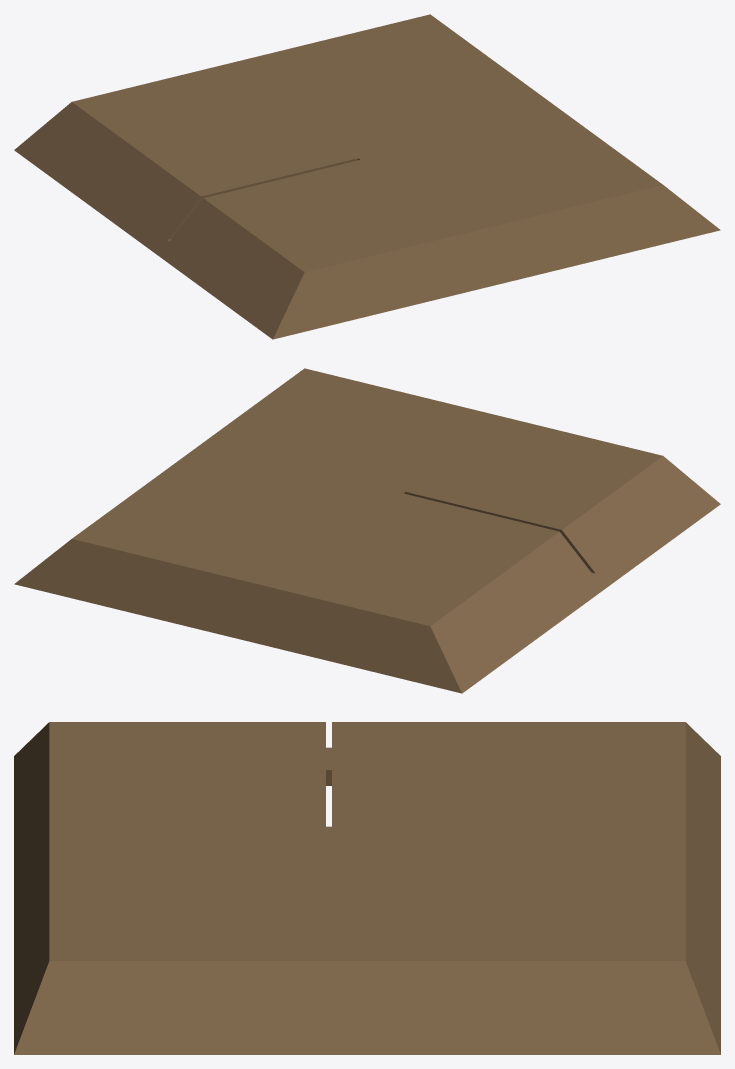
Rendered from crate_face06_broken.fbx.
The picture shows the model from 3 angles, top to bottom: view 1: azimuth 30°, elevation 25°; view 2: azimuth 150°, elevation 25°; view 3: azimuth 270°, elevation 25°; orthographic projection. The views are drawn at different scales.
Parts seen in each view (by area): view 1: crateFace077, crateFace068, crateFace080, crateFace079, crateFace076, crateFace075, crateFace069, crateFace074, crateFace072, crateFace070, crateFace073, crateFace067; view 2: crateFace068, crateFace076, crateFace080, crateFace077, crateFace079, crateFace070, crateFace069, crateFace072, crateFace074, crateFace075, crateFace071, crateFace078 (+1 smaller); view 3: crateFace069, crateFace079, crateFace077, crateFace080, crateFace076, crateFace068, crateFace070, crateFace071, crateFace075, crateFace073, crateFace072, crateFace078 (+1 smaller).
Part boxes in pixels (bbox=[...]): crateFace077: bbox=[358, 137, 670, 289]; crateFace068: bbox=[40, 110, 370, 253]; crateFace080: bbox=[170, 160, 450, 311]; crateFace079: bbox=[284, 24, 534, 129]; crateFace076: bbox=[122, 53, 375, 137]; crateFace075: bbox=[284, 225, 472, 319]; crateFace069: bbox=[371, 91, 639, 167]; crateFace074: bbox=[156, 239, 474, 328]; crateFace072: bbox=[14, 89, 124, 168]; crateFace070: bbox=[270, 14, 442, 62]; crateFace073: bbox=[662, 190, 720, 244]; crateFace067: bbox=[247, 305, 317, 339]; crateFace068: bbox=[354, 493, 603, 674]; crateFace076: bbox=[215, 499, 419, 678]; crateFace080: bbox=[405, 425, 692, 573]; crateFace077: bbox=[282, 368, 504, 498]; crateFace079: bbox=[85, 462, 335, 567]; crateFace070: bbox=[43, 529, 243, 623]; crateFace069: bbox=[177, 385, 353, 500]; crateFace072: bbox=[380, 603, 487, 693]; crateFace074: bbox=[591, 504, 694, 589]; crateFace075: bbox=[495, 417, 691, 483]; crateFace071: bbox=[57, 585, 217, 633]; crateFace078: bbox=[14, 562, 58, 594]; crateFace069: bbox=[78, 847, 402, 1054]; crateFace079: bbox=[399, 855, 688, 1031]; crateFace077: bbox=[14, 826, 380, 1015]; crateFace080: bbox=[78, 722, 325, 826]; crateFace076: bbox=[381, 743, 720, 919]; crateFace068: bbox=[332, 722, 626, 846]; crateFace070: bbox=[650, 853, 714, 1016]; crateFace071: bbox=[403, 910, 720, 1054]; crateFace075: bbox=[20, 722, 78, 879]; crateFace073: bbox=[14, 973, 102, 1054]; crateFace072: bbox=[626, 722, 720, 796]; crateFace078: bbox=[650, 1008, 720, 1054].
Bounding box in the file's own units: 40 × 4 × 40.
